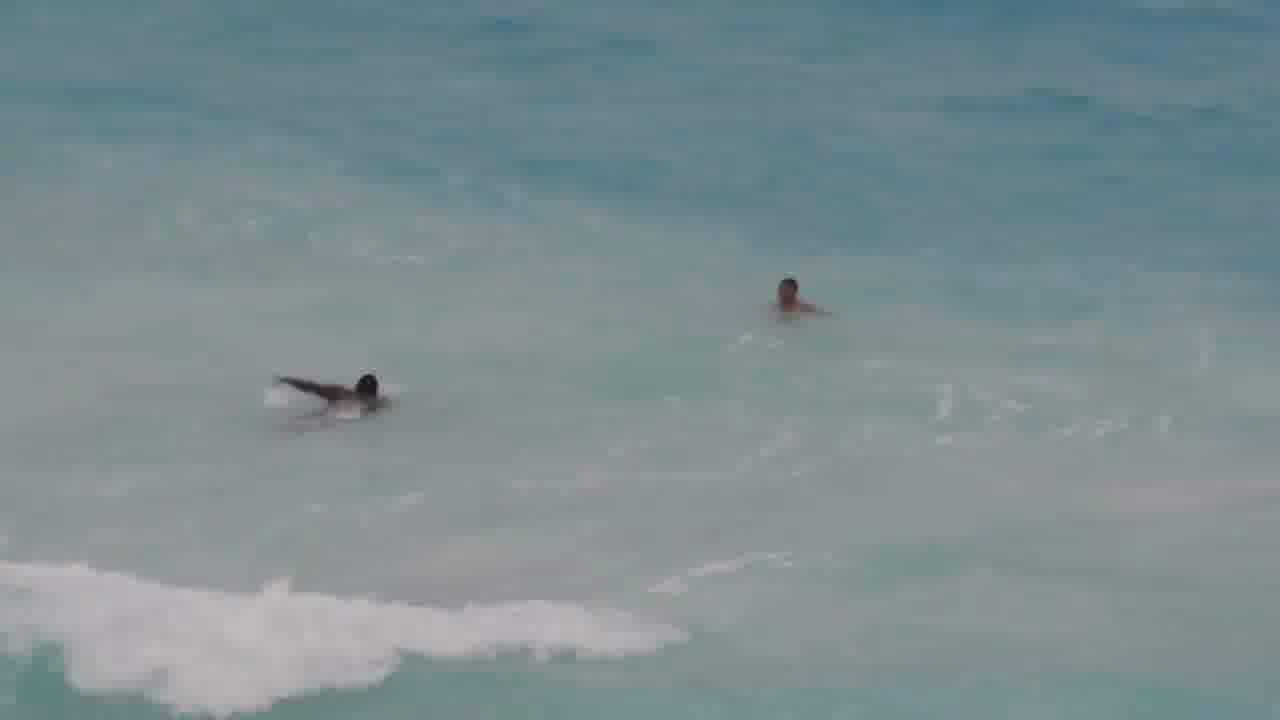human: (764, 268, 825, 322), (338, 365, 403, 415)
